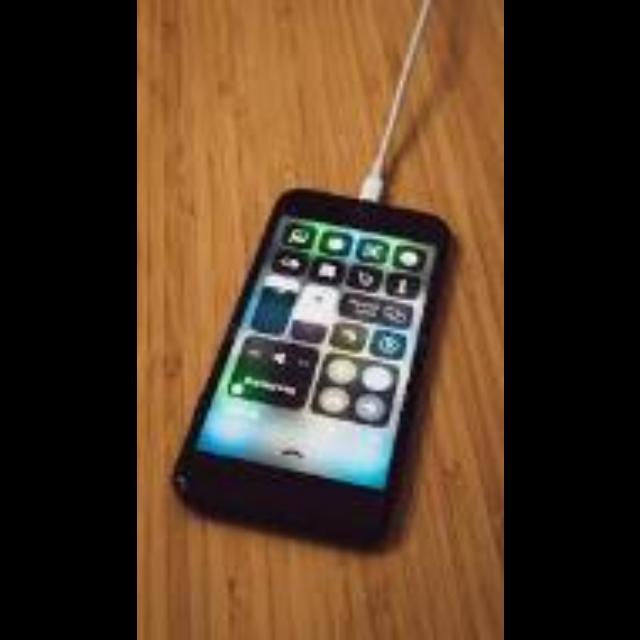Phone: (167, 188, 456, 554)
